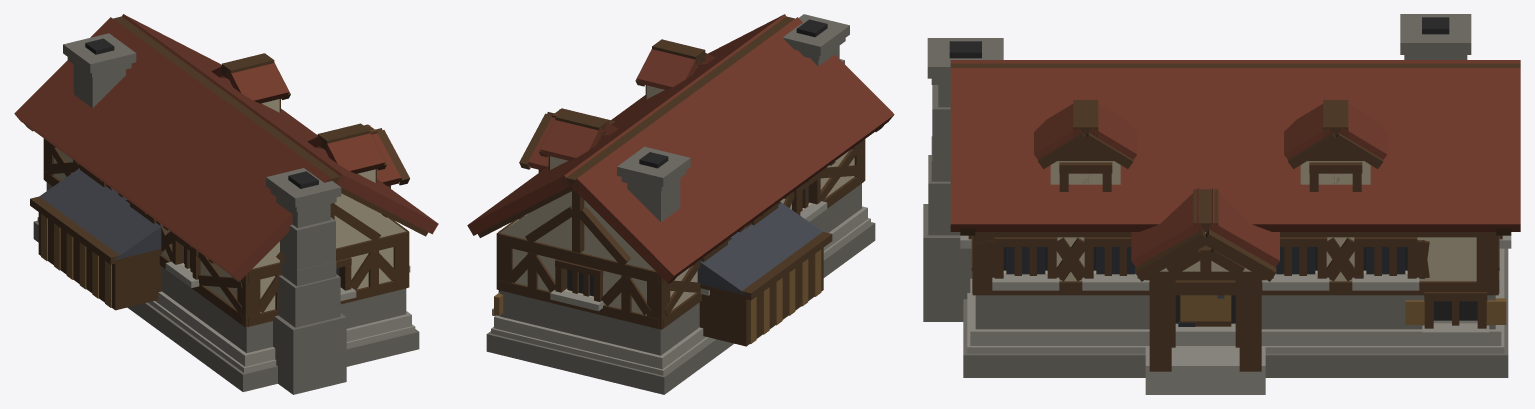
The model's file is longhouse.glb.
3 views of the same model, side by side, from view 1: azimuth 30°, elevation 25°; view 2: azimuth 150°, elevation 25°; view 3: azimuth 270°, elevation 25° (orthographic). The views are drawn at different scales.
Visible parts, largest first — view 1: roof_tile, stone, timber, roof_slate, stone_light, plaster, timber_light, soot; view 2: roof_tile, timber, stone, stone_light, plaster, roof_slate, timber_light, soot; view 3: roof_tile, timber, stone, stone_light, plaster, iron_dark, soot, timber_light.
Part boxes in pixels (x1=…): roof_tile: x1=14, y1=14, x2=438, y2=281; stone: x1=33, y1=33, x2=419, y2=394; timber: x1=24, y1=16, x2=428, y2=327; roof_slate: x1=39, y1=168, x2=162, y2=260; stone_light: x1=37, y1=217, x2=415, y2=372; plaster: x1=54, y1=99, x2=405, y2=312; timber_light: x1=41, y1=214, x2=111, y2=307; soot: x1=85, y1=38, x2=318, y2=188; roof_tile: x1=467, y1=14, x2=894, y2=282; timber: x1=478, y1=16, x2=886, y2=346; stone: x1=486, y1=14, x2=875, y2=394; stone_light: x1=491, y1=201, x2=870, y2=375; plaster: x1=500, y1=85, x2=854, y2=314; roof_slate: x1=697, y1=202, x2=822, y2=296; timber_light: x1=494, y1=249, x2=821, y2=343; soot: x1=639, y1=19, x2=827, y2=168; roof_tile: x1=950, y1=60, x2=1520, y2=266; timber: x1=950, y1=63, x2=1520, y2=371; stone: x1=923, y1=14, x2=1508, y2=377; stone_light: x1=960, y1=235, x2=1511, y2=394; plaster: x1=1003, y1=161, x2=1476, y2=281; iron_dark: x1=1006, y1=247, x2=1405, y2=326; soot: x1=949, y1=17, x2=1477, y2=323; timber_light: x1=1180, y1=295, x2=1506, y2=324.
Bounding box in the file's own units: 83.6 × 59 × 120.
